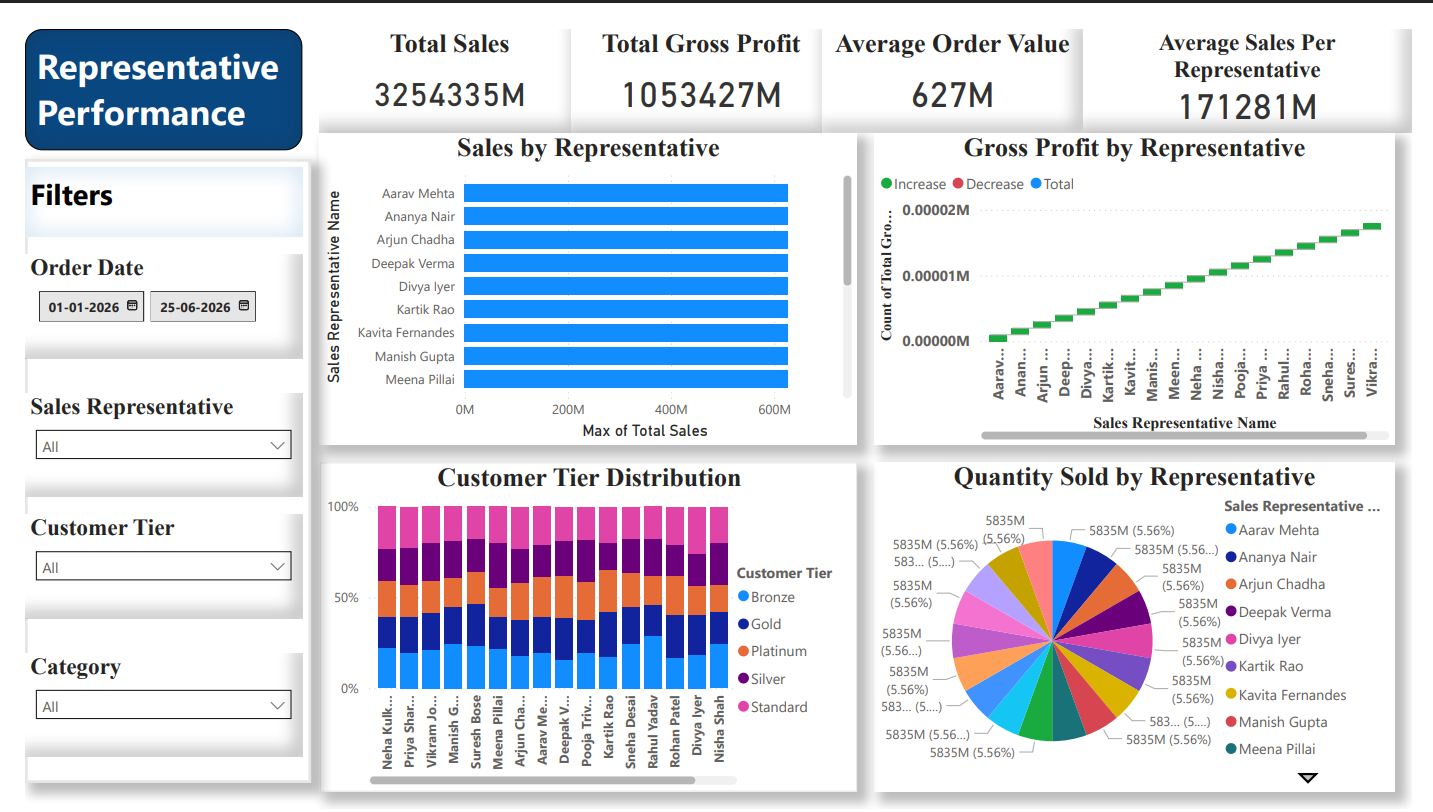

Layout of this report page (visuals, bound fields, positions):
{"tool":"powerbi","page":{"name":"Representative Performance","canvas":[1280,720],"ordinal":1},"visuals":[{"type":"advanceCardE03760C5AB684758B56AA29F9E6C257B","title":"Total Sales","fields":{"mainMeasure":["Sum(Sales By Representative.Total Sales)"]},"box":[272,0,240,96],"z":0},{"type":"advanceCardE03760C5AB684758B56AA29F9E6C257B","title":"Total Gross Profit","fields":{"mainMeasure":["Sum(Sales By Representative.Total Gross profit)"]},"box":[504,0,240,96],"z":1000},{"type":"advanceCardE03760C5AB684758B56AA29F9E6C257B","title":"Average Sales Per Representative","fields":{"mainMeasure":["Sum(Sales By Representative.Average Gross Margin %)"]},"box":[976,0,304,96],"z":2000},{"type":"barChart","title":" Sales by Representative ","fields":{"Category":["Sales By Product.Sales Representative Name"],"Y":["Max(Sales By Representative.Total Sales)"]},"box":[272,96,496,288],"z":3000},{"type":"waterfallChart","title":"Gross Profit by Representative","fields":{"Category":["Sales By Product.Sales Representative Name"],"Y":["Count(Sales By Representative.Total Gross profit)"]},"box":[784,96,480,288],"z":4000},{"type":"advanceCardE03760C5AB684758B56AA29F9E6C257B","title":"Average Order Value","fields":{"mainMeasure":["Sum(Sales By Representative.Average Order Value)"]},"box":[736,0,240,96],"z":5000},{"type":"pieChart","title":"Quantity Sold by Representative ","fields":{"Category":["Sales By Product.Sales Representative Name"],"Y":["Sum(Sales By Representative.Total Quantity)"]},"box":[784,400,480,304],"z":6000},{"type":"hundredPercentStackedColumnChart","title":"Customer Tier Distribution","fields":{"Category":["Sales By Product.Sales Representative Name"],"Series":["Sales By Product.Customer Tier"],"Y":["Count(Sales By Product.Order Id#)"]},"box":[272,400,496,304],"z":7000},{"type":"shape","box":[0,120,264,576],"z":8000},{"type":"textbox","box":[0,128,256,64],"z":9000},{"type":"slicer","title":"Order Date","fields":{"Values":["Sales By Representative.Order Date"]},"box":[0,208,256,96],"z":10000},{"type":"slicer","title":"Sales Representative","fields":{"Values":["Sales By Product.Sales Representative Name"]},"box":[0,336,256,96],"z":11000},{"type":"slicer","title":"Customer Tier","fields":{"Values":["Sales By Representative.Customer Tier"]},"box":[0,448,256,96],"z":12000},{"type":"slicer","title":"Category","fields":{"Values":["Sales By Product.Category"]},"box":[0,576,256,96],"z":13000},{"type":"textbox","box":[0,0,256,112],"z":14000}]}

Visuals, with their boxes in screenshot pixels (x1, y1, x2, y2), scaled from the page's 1280x720 canvas onto the 1433x812 screenshot:
"Total Sales" advanceCardE03760C5AB684758B56AA29F9E6C257B: x1=305, y1=0, x2=573, y2=108
"Total Gross Profit" advanceCardE03760C5AB684758B56AA29F9E6C257B: x1=564, y1=0, x2=833, y2=108
"Average Sales Per Representative" advanceCardE03760C5AB684758B56AA29F9E6C257B: x1=1093, y1=0, x2=1432, y2=108
" Sales by Representative " barChart: x1=305, y1=108, x2=860, y2=433
"Gross Profit by Representative" waterfallChart: x1=878, y1=108, x2=1415, y2=433
"Average Order Value" advanceCardE03760C5AB684758B56AA29F9E6C257B: x1=824, y1=0, x2=1093, y2=108
"Quantity Sold by Representative " pieChart: x1=878, y1=451, x2=1415, y2=794
"Customer Tier Distribution" hundredPercentStackedColumnChart: x1=305, y1=451, x2=860, y2=794
shape: x1=0, y1=135, x2=296, y2=785
textbox: x1=0, y1=144, x2=287, y2=217
"Order Date" slicer: x1=0, y1=235, x2=287, y2=343
"Sales Representative" slicer: x1=0, y1=379, x2=287, y2=487
"Customer Tier" slicer: x1=0, y1=505, x2=287, y2=614
"Category" slicer: x1=0, y1=650, x2=287, y2=758
textbox: x1=0, y1=0, x2=287, y2=126
